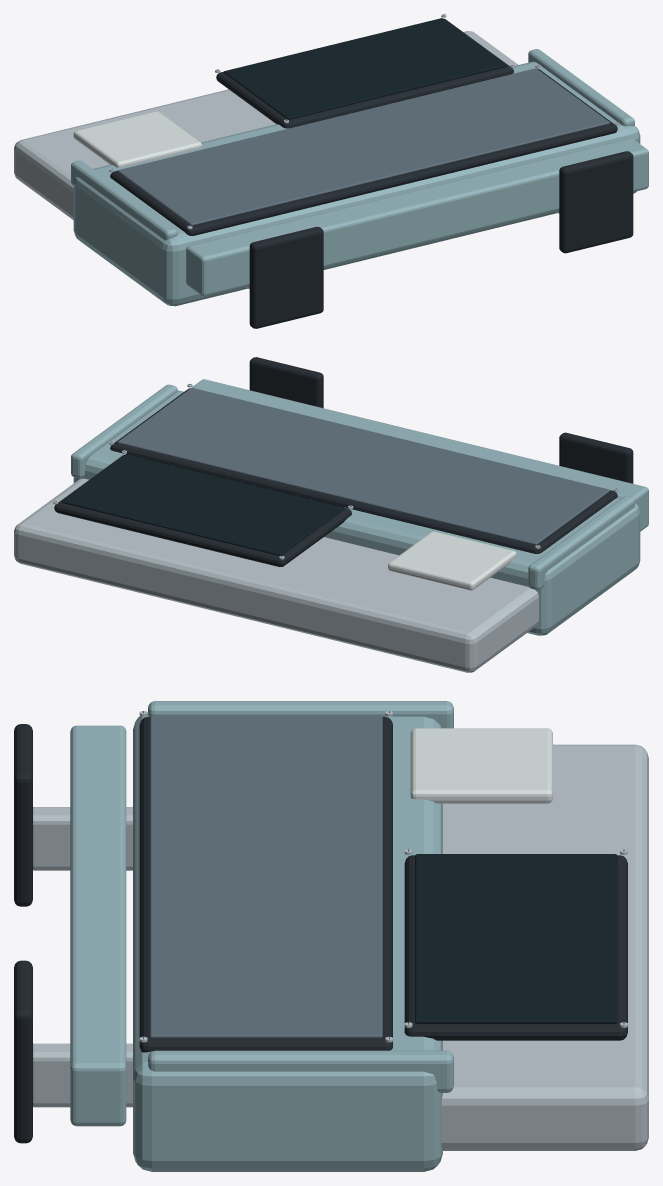
The model's file is wash.glb.
3 views of the same model, one above another, from view 1: azimuth 30°, elevation 25°; view 2: azimuth 150°, elevation 25°; view 3: azimuth 270°, elevation 25° (orthographic). The views are drawn at different scales.
Parts seen in each view (by area): view 1: deck live content surface.009, Lower service fascia, Sloped desk body.002, screen live content surface.009, Rear instrument riser.002, Rubber machine foot.014, Rubber machine foot.015, deck mounting bezel.009, Equipment identity plate.009, screen mounting bezel.009, Raised desk end cap.004, Raised desk end cap.005; view 2: Rear instrument riser.002, deck live content surface.009, screen live content surface.009, Sloped desk body.002, Lower service fascia, deck mounting bezel.009, Equipment identity plate.009, screen mounting bezel.009, Rubber machine foot.014, Rubber machine foot.015, Raised desk end cap.004, Raised desk end cap.005; view 3: deck live content surface.009, Rear instrument riser.002, Sloped desk body.002, screen live content surface.009, Lower service fascia, Equipment identity plate.009, deck mounting bezel.009, screen mounting bezel.009, Raised desk end cap.005, Raised desk end cap.004, Rubber machine foot.015, Rubber machine foot.014 (+2 smaller).
Boxes of the visible parts, left/top/right/bottom form: deck live content surface.009: left=117, top=68, right=609, bottom=225; Lower service fascia: left=186, top=138, right=648, bottom=296; Sloped desk body.002: left=73, top=61, right=640, bottom=306; screen live content surface.009: left=223, top=18, right=506, bottom=119; Rear instrument riser.002: left=14, top=31, right=518, bottom=219; Rubber machine foot.014: left=249, top=226, right=323, bottom=328; Rubber machine foot.015: left=559, top=151, right=633, bottom=253; deck mounting bezel.009: left=110, top=68, right=617, bottom=235; Equipment identity plate.009: left=73, top=111, right=202, bottom=167; screen mounting bezel.009: left=216, top=18, right=513, bottom=128; Raised desk end cap.004: left=71, top=160, right=177, bottom=240; Raised desk end cap.005: left=528, top=49, right=634, bottom=126; Rear instrument riser.002: left=14, top=478, right=538, bottom=672; deck live content surface.009: left=117, top=388, right=609, bottom=545; screen live content surface.009: left=62, top=454, right=344, bottom=555; Sloped desk body.002: left=73, top=390, right=640, bottom=635; Lower service fascia: left=191, top=379, right=648, bottom=531; deck mounting bezel.009: left=110, top=388, right=617, bottom=553; Equipment identity plate.009: left=388, top=531, right=516, bottom=590; screen mounting bezel.009: left=54, top=454, right=351, bottom=566; Rubber machine foot.014: left=559, top=432, right=633, bottom=483; Rubber machine foot.015: left=249, top=357, right=323, bottom=408; Raised desk end cap.004: left=528, top=496, right=634, bottom=589; Raised desk end cap.005: left=71, top=384, right=177, bottom=478; deck live content surface.009: left=150, top=715, right=382, bottom=1038; Rear instrument riser.002: left=441, top=744, right=648, bottom=1150; Sloped desk body.002: left=133, top=712, right=442, bottom=1171; screen live content surface.009: left=415, top=854, right=617, bottom=1023; Lower service fascia: left=70, top=725, right=126, bottom=1126; Equipment identity plate.009: left=410, top=728, right=552, bottom=803; deck mounting bezel.009: left=139, top=716, right=392, bottom=1052; screen mounting bezel.009: left=404, top=855, right=627, bottom=1040; Raised desk end cap.005: left=148, top=1050, right=453, bottom=1092; Raised desk end cap.004: left=148, top=701, right=453, bottom=728; Rubber machine foot.015: left=14, top=960, right=32, bottom=1143; Rubber machine foot.014: left=14, top=724, right=32, bottom=906.
Bounding box in the file's own units: 10 × 1.7 × 7.37.
